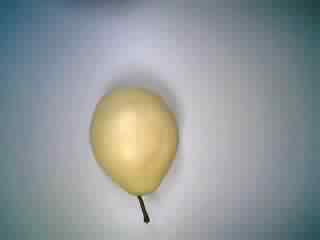pear: (79, 78, 183, 229)
